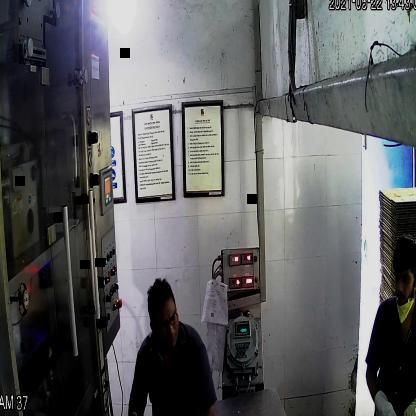goggles: (146, 310, 182, 333)
no_goggles: (390, 266, 414, 289)
